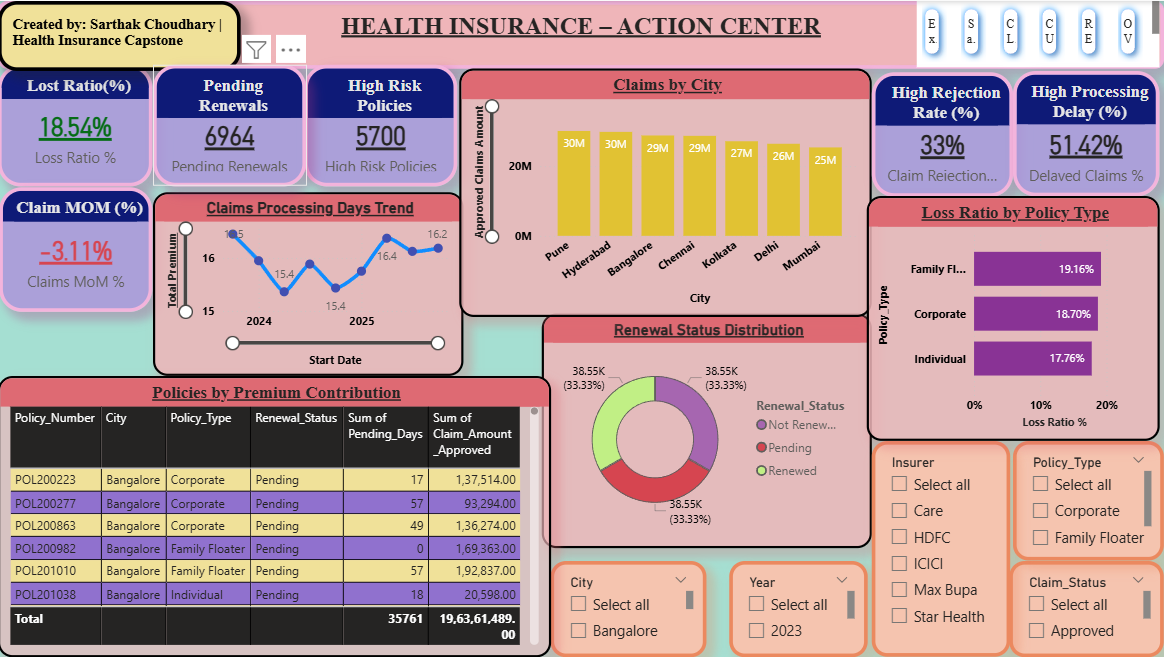

What the dashboard file says about the page in this screenshot:
{"tool":"powerbi","page":{"name":"HEALTH INSURANCE – ACTION CENTER","canvas":[1280,720],"ordinal":6},"visuals":[{"type":"textbox","box":[0,0,1280.3,74.1],"z":0},{"type":"card","title":"High Risk Policies","fields":{"Values":["All Measures.High Risk Policies"]},"box":[336.8,69.8,168.4,133.5],"z":1000},{"type":"card","title":"Lost Ratio(%)","fields":{"Values":["All Measures.Loss Ratio %"]},"box":[0,69.8,169.9,133.5],"z":2000},{"type":"card","title":"Claim MOM (%)","fields":{"Values":["All Measures.Claims MoM %"]},"box":[1.3,204,168.3,136.4],"z":3000},{"type":"lineChart","title":"Claims Processing Days Trend","fields":{"Category":["Date Table.Date.Variation.Date Hierarchy.Year","Date Table.Date.Variation.Date Hierarchy.Quarter","Date Table.Date.Variation.Date Hierarchy.Month","Date Table.Date.Variation.Date Hierarchy.Day"],"Y":["All Measures.Avg Processing Days"]},"box":[169.6,210.4,340.5,201.5],"z":4000},{"type":"donutChart","title":"Renewal Status Distribution","fields":{"Y":["CountNonNull(fact_policies.Policy_Number)"],"Category":["fact_renewals.Renewal_Status"]},"box":[596.8,343,362.1,257.6],"z":5000},{"type":"slicer","fields":{"Values":["dim_customer.City"]},"box":[607,614.6,170.9,105.8],"z":6000},{"type":"slicer","fields":{"Values":["fact_claims.Claim_Status"]},"box":[1110.7,614.6,169.6,105.8],"z":7000},{"type":"slicer","fields":{"Values":["fact_policies.Policy_Type"]},"box":[1114.5,483.3,165.8,131.3],"z":8000},{"type":"slicer","fields":{"Values":["Date Table.Year"]},"box":[802.1,614.6,151.7,105.8],"z":9000},{"type":"textbox","box":[0,0,266.8,76.8],"z":10000},{"type":"tableEx","title":"Policies by Premium Contribution","fields":{"Values":["fact_policies.Policy_Number","dim_customer.City","fact_policies.Policy_Type","fact_renewals.Renewal_Status","Sum(fact_renewals.Pending_Days)","Sum(fact_claims.Claim_Amount_Approved)"]},"box":[0,411.9,607,308.6],"z":11000},{"type":"card","title":"Pending Renewals","fields":{"Values":["All Measures.Pending Renewals"]},"box":[169.9,69.8,168.4,133.5],"z":12000},{"type":"pageNavigator","box":[1009.2,0,266.8,72.5],"z":13000},{"type":"columnChart","title":"Claims by City","fields":{"Y":["All Measures.Approved Claims Amount"],"Category":["dim_customer.City"]},"box":[506.2,74,452.7,272.9],"z":14000},{"type":"card","title":"High Rejection Rate (%)","fields":{"Values":["All Measures.Claim Rejection %"]},"box":[958.9,77.8,155.6,136.4],"z":15000},{"type":"card","title":"High Processing Delay  (%)","fields":{"Values":["All Measures.Delayed Claims %"]},"box":[1114.5,76.5,160.7,137.7],"z":17000},{"type":"slicer","fields":{"Values":["dim_insurer.Insurer"]},"box":[958.9,483.3,151.7,237.2],"z":18000},{"type":"barChart","title":"Loss Ratio by Policy Type","fields":{"Category":["fact_policies.Policy_Type"],"Y":["All Measures.Loss Ratio %"]},"box":[953.8,214.2,321.3,269.1],"z":19000}]}

Visuals, with their boxes in screenshot pixels (x1, y1, x2, y2), scaled from the page's 1280x720 canvas onto the 1164x657 screenshot:
textbox: (left=0, top=0, right=1163, bottom=68)
"High Risk Policies" card: (left=306, top=64, right=459, bottom=186)
"Lost Ratio(%)" card: (left=0, top=64, right=155, bottom=186)
"Claim MOM (%)" card: (left=1, top=186, right=154, bottom=311)
"Claims Processing Days Trend" lineChart: (left=154, top=192, right=464, bottom=376)
"Renewal Status Distribution" donutChart: (left=543, top=313, right=872, bottom=548)
slicer - dim_customer.City: (left=552, top=561, right=707, bottom=656)
slicer - fact_claims.Claim_Status: (left=1010, top=561, right=1163, bottom=656)
slicer - fact_policies.Policy_Type: (left=1013, top=441, right=1163, bottom=561)
slicer - Date Table.Year: (left=729, top=561, right=867, bottom=656)
textbox: (left=0, top=0, right=243, bottom=70)
"Policies by Premium Contribution" tableEx: (left=0, top=376, right=552, bottom=656)
"Pending Renewals" card: (left=155, top=64, right=308, bottom=186)
pageNavigator: (left=918, top=0, right=1160, bottom=66)
"Claims by City" columnChart: (left=460, top=68, right=872, bottom=317)
"High Rejection Rate (%)" card: (left=872, top=71, right=1013, bottom=195)
"High Processing Delay  (%)" card: (left=1013, top=70, right=1160, bottom=195)
slicer - dim_insurer.Insurer: (left=872, top=441, right=1010, bottom=656)
"Loss Ratio by Policy Type" barChart: (left=867, top=195, right=1160, bottom=441)
